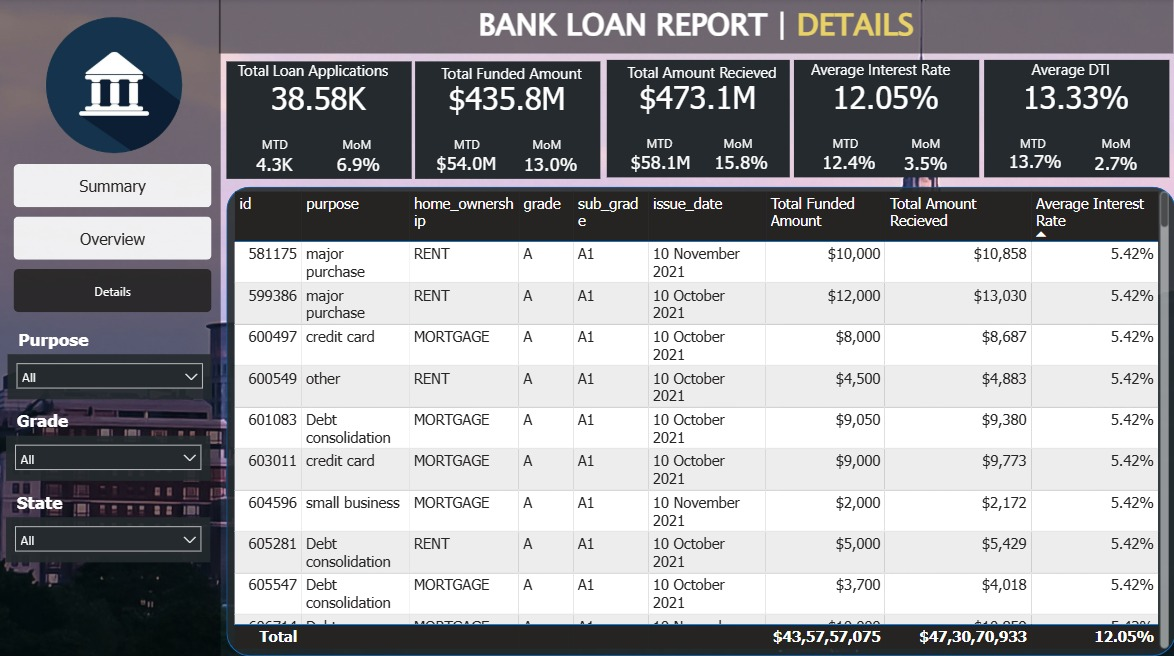

The dashboard page shown, as its layout file describes it:
{"tool":"powerbi","page":{"name":"Details","canvas":[1280,720],"ordinal":2},"visuals":[{"type":"textbox","box":[241.7,0,1036.8,60.1],"z":0},{"type":"shape","box":[1072.5,67.5,201.2,127.6],"z":0,"group":"g5"},{"type":"shape","box":[661.9,67.8,198.8,127.6],"z":0,"group":"g3"},{"type":"shape","box":[865.9,67.8,201.2,127.6],"z":0,"group":"g4"},{"type":"shape","box":[248.8,68.5,201.2,127.6],"z":0,"group":"g2"},{"type":"shape","box":[454.4,68.6,201.2,127.6],"z":0,"group":"g1"},{"type":"slicer","fields":{"Values":["bank_loan_analysis.purpose"]},"box":[11,387.7,222.1,49.1],"z":0,"group":"g9"},{"type":"slicer","fields":{"Values":["bank_loan_analysis.grade"]},"box":[9.8,476,222.1,49.1],"z":0,"group":"g8"},{"type":"slicer","fields":{"Values":["bank_loan_analysis.address_state"]},"box":[9.8,564.4,222.1,49.1],"z":0,"group":"g7"},{"type":"shape","box":[0,0,242.9,720.2],"z":1000},{"type":"card","fields":{"Values":["bank_loan_analysis.Average DTI"]},"box":[1096.2,80.9,152.6,54],"z":1000,"group":"g5"},{"type":"card","fields":{"Values":["bank_loan_analysis.Average Interest Rate"]},"box":[889.6,81.2,152.6,54],"z":1000,"group":"g4"},{"type":"card","fields":{"Values":["bank_loan_analysis.Total Amount Recieved"]},"box":[685.4,81.3,150.8,54],"z":1000,"group":"g3"},{"type":"card","fields":{"Values":["bank_loan_analysis.Total Loan Applications"]},"box":[272.5,81.9,152.6,54],"z":1000,"group":"g2"},{"type":"card","fields":{"Values":["bank_loan_analysis.Total Funded Amount"]},"box":[478.1,82.1,152.6,54],"z":1000,"group":"g1"},{"type":"textbox","box":[17.1,354.6,184.1,47.9],"z":1000,"group":"g9"},{"type":"textbox","box":[15.9,442.9,184.1,47.9],"z":1000,"group":"g8"},{"type":"textbox","box":[15.9,531.3,184.1,47.9],"z":1000,"group":"g7"},{"type":"group","id":"g1","title":"Group 1","box":[454.4,64.9,201.2,131.3],"z":2000},{"type":"card","fields":{"Values":["bank_loan_analysis.MTD Amount Recieved"]},"box":[678.3,164,83.8,30],"z":2000,"group":"g3"},{"type":"card","fields":{"Values":["bank_loan_analysis.MTD Funded Amount"]},"box":[472.6,165,75,30],"z":2000,"group":"g1"},{"type":"card","fields":{"Values":["bank_loan_analysis.MTD DTI"]},"box":[1091.9,165.1,71.2,28.8],"z":2000,"group":"g5"},{"type":"card","fields":{"Values":["bank_loan_analysis.MTD Interest Rate"]},"box":[890,166.3,70,28],"z":2000,"group":"g4"},{"type":"card","fields":{"Values":["bank_loan_analysis.MTD Loan Applications"]},"box":[268,166.6,64.4,28.2],"z":2000,"group":"g2"},{"type":"group","id":"g2","title":"Group 1","box":[248.8,62,201.2,134.1],"z":3000},{"type":"card","fields":{"Values":["bank_loan_analysis.MoM Recieved Amount"]},"box":[772.7,164.5,68.8,31.2],"z":3000,"group":"g3"},{"type":"card","fields":{"Values":["bank_loan_analysis.MoM Funded Amount"]},"box":[566.1,164.7,71.2,31.2],"z":3000,"group":"g1"},{"type":"card","fields":{"Values":["bank_loan_analysis.MoM DTI"]},"box":[1183.3,165.6,63.3,29.4],"z":3000,"group":"g5"},{"type":"card","fields":{"Values":["bank_loan_analysis.MoM Interest Rate"]},"box":[976.7,165.9,63.3,29.4],"z":3000,"group":"g4"},{"type":"card","fields":{"Values":["bank_loan_analysis.MoM Loan Applications"]},"box":[359.6,166.6,63.3,29.4],"z":3000,"group":"g2"},{"type":"textbox","box":[1075.5,61,181.6,40.5],"z":4000,"group":"g5"},{"type":"textbox","box":[868.9,61.3,181.6,40.5],"z":4000,"group":"g4"},{"type":"textbox","box":[251.8,62,181.6,40.5],"z":4000,"group":"g2"},{"type":"group","id":"g3","title":"Group 1","box":[661.9,64.1,198.8,131.6],"z":4000},{"type":"textbox","box":[673.6,64.1,184.3,38],"z":4000,"group":"g3"},{"type":"textbox","box":[466.3,64.9,186.5,38],"z":4000,"group":"g1"},{"type":"group","id":"g4","title":"Group 1","box":[865.9,61.3,201.2,134.1],"z":5000},{"type":"textbox","box":[698.2,142.9,42.5,31.3],"z":5000,"group":"g3"},{"type":"textbox","box":[899.9,143.3,43,31],"z":5000,"group":"g4"},{"type":"textbox","box":[1103.7,143.5,43.8,30],"z":5000,"group":"g5"},{"type":"textbox","box":[488.2,143.7,43.8,31.3],"z":5000,"group":"g1"},{"type":"textbox","box":[279.2,144,43,31],"z":5000,"group":"g2"},{"type":"group","id":"g5","title":"Group 1","box":[1072.5,61,201.2,134.1],"z":6000},{"type":"textbox","box":[783.1,142.9,42.5,31.2],"z":6000,"group":"g3"},{"type":"textbox","box":[1188.4,143.3,54,30.7],"z":6000,"group":"g5"},{"type":"textbox","box":[981.8,143.6,54,30.7],"z":6000,"group":"g4"},{"type":"textbox","box":[575.6,143.7,43.8,31.2],"z":6000,"group":"g1"},{"type":"textbox","box":[363.8,144.5,53.8,30],"z":6000,"group":"g2"},{"type":"group","id":"g6","title":"Group 3","box":[9.8,354.6,223.3,258.9],"z":7000},{"type":"shape","box":[248.8,205,1031,510],"z":8000},{"type":"tableEx","fields":{"Values":["bank_loan_analysis.id","bank_loan_analysis.purpose","bank_loan_analysis.home_ownership","bank_loan_analysis.grade","bank_loan_analysis.sub_grade","bank_loan_analysis.issue_date","bank_loan_analysis.Total Funded Amount","bank_loan_analysis.Total Amount Recieved","bank_loan_analysis.Average Interest Rate"]},"box":[252.5,205,1025,506.2],"z":9000},{"type":"pageNavigator","box":[17.5,180,215,163.8],"z":10000},{"type":"image","box":[0,11,248.5,162],"z":11000},{"type":"group","id":"g7","title":"Group 2","box":[9.8,531.3,222.1,82.2],"z":11000,"group":"g6"},{"type":"group","id":"g8","title":"Group 2","box":[9.8,442.9,222.1,82.2],"z":12000,"group":"g6"},{"type":"group","id":"g9","title":"Group 2","box":[11,354.6,222.1,82.2],"z":13000,"group":"g6"}]}

Visuals, with their boxes in screenshot pixels (x1, y1, x2, y2), scaled from the page's 1280x720 canvas onto the 1174x656 screenshot:
textbox: bbox=(222, 0, 1173, 55)
shape: bbox=(984, 62, 1168, 178)
shape: bbox=(607, 62, 789, 178)
shape: bbox=(794, 62, 979, 178)
shape: bbox=(228, 62, 413, 179)
shape: bbox=(417, 63, 601, 179)
slicer - bank_loan_analysis.purpose: bbox=(10, 353, 214, 398)
slicer - bank_loan_analysis.grade: bbox=(9, 434, 213, 478)
slicer - bank_loan_analysis.address_state: bbox=(9, 514, 213, 559)
shape: bbox=(0, 0, 223, 655)
card - bank_loan_analysis.Average DTI: bbox=(1005, 74, 1145, 123)
card - bank_loan_analysis.Average Interest Rate: bbox=(816, 74, 956, 123)
card - bank_loan_analysis.Total Amount Recieved: bbox=(629, 74, 767, 123)
card - bank_loan_analysis.Total Loan Applications: bbox=(250, 75, 390, 124)
card - bank_loan_analysis.Total Funded Amount: bbox=(439, 75, 578, 124)
textbox: bbox=(16, 323, 185, 367)
textbox: bbox=(15, 404, 183, 447)
textbox: bbox=(15, 484, 183, 528)
"Group 1" group: bbox=(417, 59, 601, 179)
card - bank_loan_analysis.MTD Amount Recieved: bbox=(622, 149, 699, 177)
card - bank_loan_analysis.MTD Funded Amount: bbox=(433, 150, 502, 178)
card - bank_loan_analysis.MTD DTI: bbox=(1001, 150, 1067, 177)
card - bank_loan_analysis.MTD Interest Rate: bbox=(816, 152, 880, 177)
card - bank_loan_analysis.MTD Loan Applications: bbox=(246, 152, 305, 177)
"Group 1" group: bbox=(228, 56, 413, 179)
card - bank_loan_analysis.MoM Recieved Amount: bbox=(709, 150, 772, 178)
card - bank_loan_analysis.MoM Funded Amount: bbox=(519, 150, 585, 178)
card - bank_loan_analysis.MoM DTI: bbox=(1085, 151, 1143, 178)
card - bank_loan_analysis.MoM Interest Rate: bbox=(896, 151, 954, 178)
card - bank_loan_analysis.MoM Loan Applications: bbox=(330, 152, 388, 179)
textbox: bbox=(986, 56, 1153, 92)
textbox: bbox=(797, 56, 964, 93)
textbox: bbox=(231, 56, 398, 93)
"Group 1" group: bbox=(607, 58, 789, 178)
textbox: bbox=(618, 58, 787, 93)
textbox: bbox=(428, 59, 599, 94)
"Group 1" group: bbox=(794, 56, 979, 178)
textbox: bbox=(640, 130, 679, 159)
textbox: bbox=(825, 131, 865, 159)
textbox: bbox=(1012, 131, 1052, 158)
textbox: bbox=(448, 131, 488, 159)
textbox: bbox=(256, 131, 296, 159)
"Group 1" group: bbox=(984, 56, 1168, 178)
textbox: bbox=(718, 130, 757, 159)
textbox: bbox=(1090, 131, 1140, 159)
textbox: bbox=(900, 131, 950, 159)
textbox: bbox=(528, 131, 568, 159)
textbox: bbox=(334, 132, 383, 159)
"Group 3" group: bbox=(9, 323, 214, 559)
shape: bbox=(228, 187, 1173, 651)
tableEx - bank_loan_analysis.id x bank_loan_analysis.purpose: bbox=(232, 187, 1172, 648)
pageNavigator: bbox=(16, 164, 213, 313)
image: bbox=(0, 10, 228, 158)
"Group 2" group: bbox=(9, 484, 213, 559)
"Group 2" group: bbox=(9, 404, 213, 478)
"Group 2" group: bbox=(10, 323, 214, 398)
